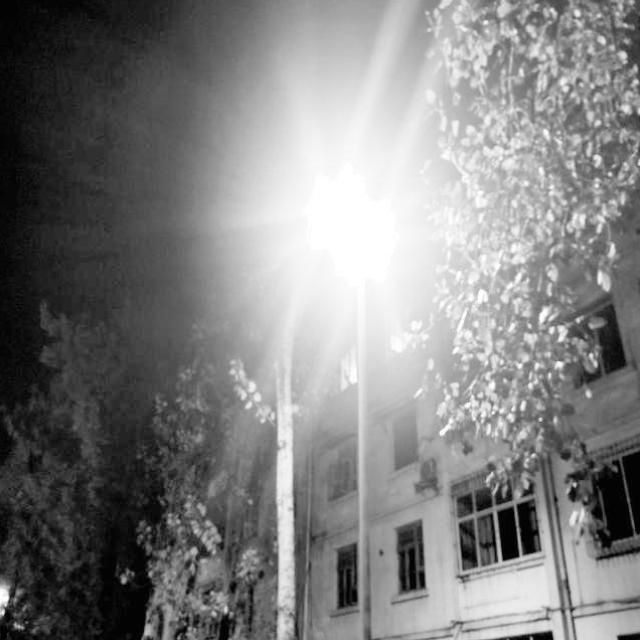Light: (290, 144, 402, 637)
